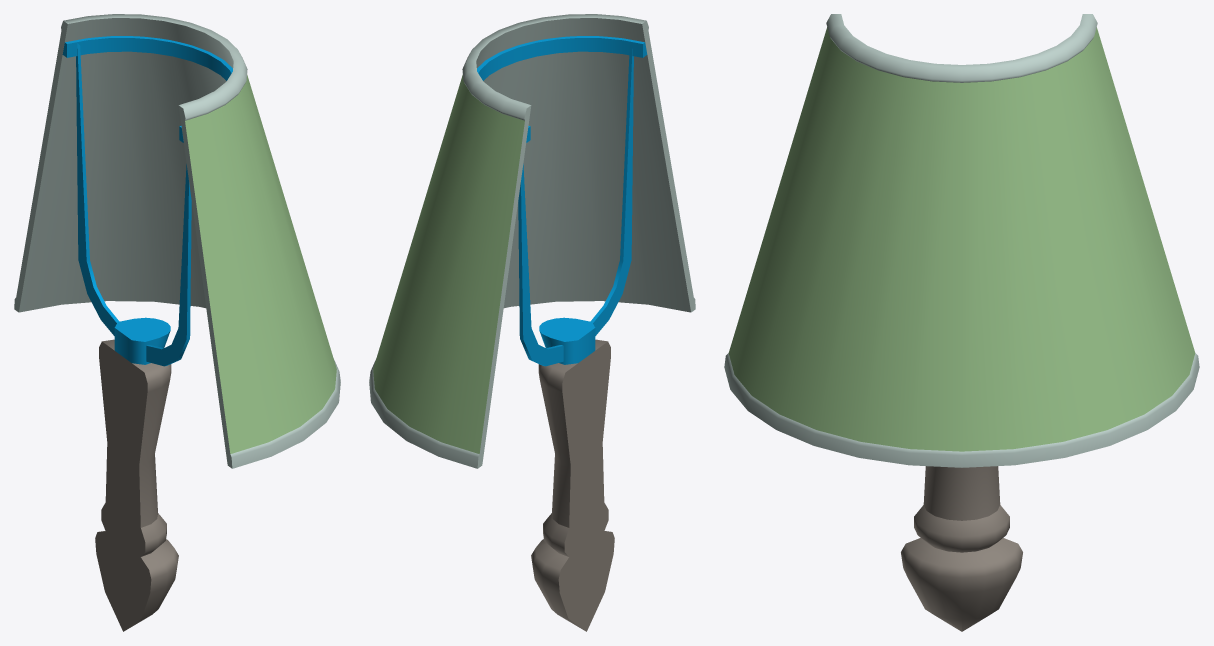
Rendered from lampClassicWall.fbx.
3 renders of one model, left to right at view 1: azimuth 30°, elevation 25°; view 2: azimuth 150°, elevation 25°; view 3: azimuth 270°, elevation 25°, orthographic. The views are drawn at different scales.
Parts seen in each view (by area): view 1: lampClassicWall; view 2: lampClassicWall; view 3: lampClassicWall.
Part boxes in pixels (bbox=[...]): lampClassicWall: bbox=[14, 14, 340, 631]; lampClassicWall: bbox=[369, 14, 695, 631]; lampClassicWall: bbox=[724, 14, 1199, 631].
Bounding box in the file's own units: 11.23 × 32.23 × 22.47.
